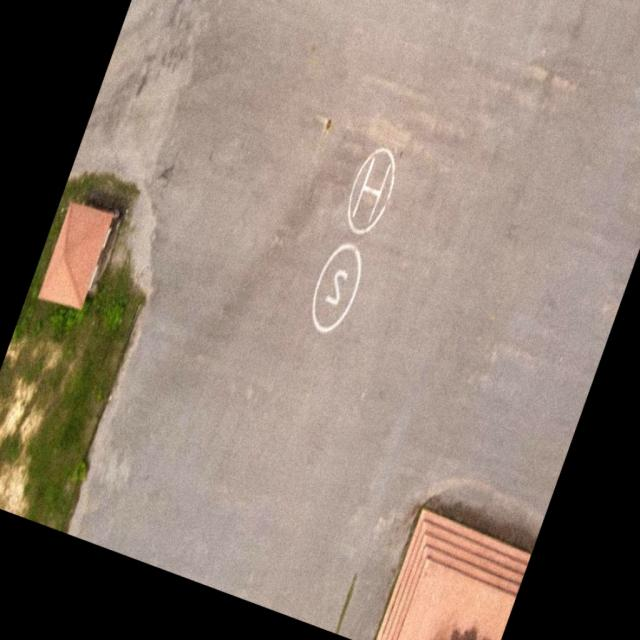helipad: (344, 140, 399, 238)
